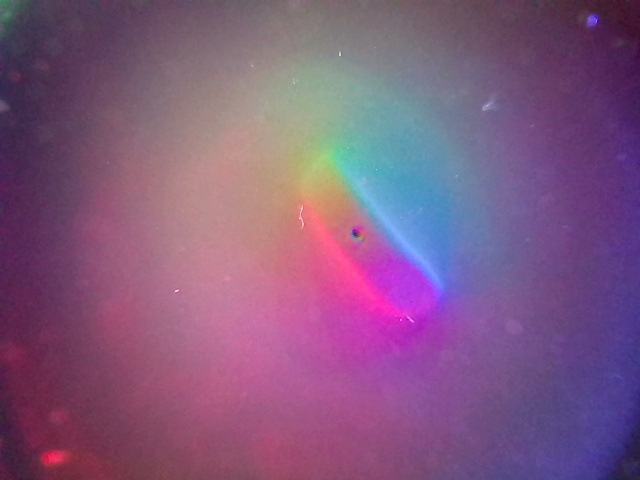contact: (301, 146, 442, 313)
